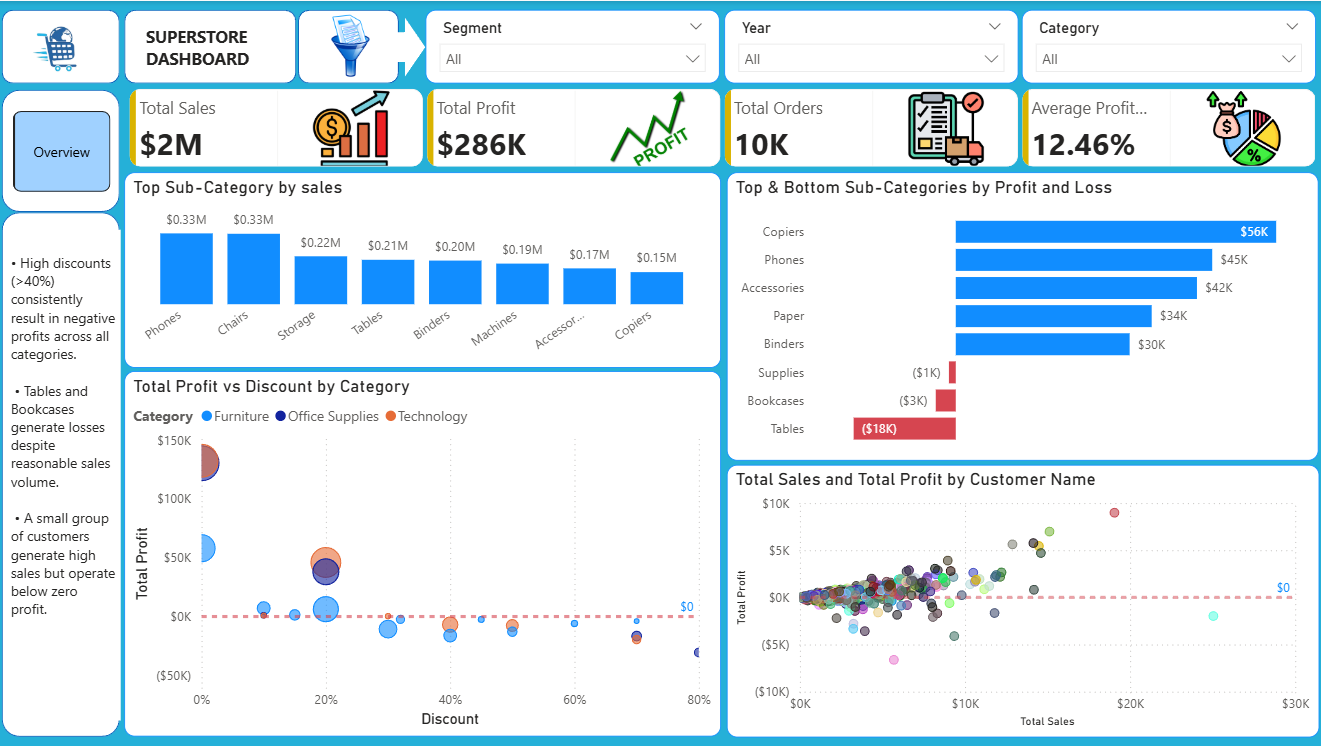

This screenshot's page, from the dashboard's own definition file:
{"tool":"powerbi","page":{"name":"Profitability Analysis","canvas":[1280,720],"ordinal":1},"visuals":[{"type":"shape","box":[4.1,8.2,113.9,71.4],"z":0},{"type":"image","box":[0,8.2,118,75.5],"z":1000},{"type":"cardVisual","title":"sdgdfgth","fields":{"Data":["Sample - Superstore.Total_Sales","Sample - Superstore.Total_Profit","Sample - Superstore.Total_Orders","Sample - Superstore.Average Profit Margin %"]},"box":[118,75.5,1162.3,93.3],"z":2000},{"type":"slicer","fields":{"Values":["Sample - Superstore.Category"]},"box":[988,8.2,284,71.4],"z":3000},{"type":"shape","box":[4.1,85.1,113.9,118],"z":4000},{"type":"shape","box":[122.1,8.2,166,71.4],"z":5000},{"type":"slicer","fields":{"Values":["Sample - Superstore.Order Date.Variation.Date Hierarchy.Year"]},"box":[701.2,8.2,284,71.4],"z":6000},{"type":"slicer","fields":{"Values":["Sample - Superstore.Segment"]},"box":[413,8.2,284,71.4],"z":7000},{"type":"shape","box":[289.5,8.2,97.4,71.4],"z":8000},{"type":"textbox","box":[137.2,17.8,141.3,57.6],"z":9000},{"type":"image","box":[293.7,8.2,93.3,67.2],"z":10000},{"type":"shape","box":[373.2,15.1,39.8,57.6],"z":11000},{"type":"shape","box":[4.1,204.5,113.9,506.3],"z":12000},{"type":"textbox","box":[6.9,220.9,111.1,473.4],"z":13000},{"type":"clusteredColumnChart","title":"Top Sub-Category by sales","fields":{"Category":["Sample - Superstore.Sub-Category"],"Y":["Sample - Superstore.Total_Sales"]},"box":[121.4,165.7,575.7,188.6],"z":14000},{"type":"clusteredBarChart","title":"Top & Bottom Sub-Categories by Profit and Loss","fields":{"Category":["Sample - Superstore.Sub-Category"],"Y":["Sample - Superstore.Total_Profit"]},"box":[702.9,165.7,571.4,278.6],"z":15000},{"type":"scatterChart","fields":{"X":["Sample - Superstore.Total Sales"],"Y":["Sample - Superstore.Total Profit"],"Series":["Sample - Superstore.Customer Name"]},"box":[703.4,447.6,571.9,263],"z":16000},{"type":"scatterChart","title":"Total Profit vs Discount by Category","fields":{"X":["Sample - Superstore.Discount"],"Y":["Sample - Superstore.Total Profit"],"Size":["Sample - Superstore.Total Sales"],"Series":["Sample - Superstore.Category"]},"box":[121.4,357.1,575.7,352.9],"z":17000},{"type":"pageNavigator","box":[14.3,105.7,94.3,78.6],"z":18000}]}

Visuals, with their boxes in screenshot pixels (x1, y1, x2, y2), scaled from the page's 1280x720 canvas onto the 1321x746 screenshot:
shape: crop(4, 8, 122, 82)
image: crop(0, 8, 122, 87)
"sdgdfgth" cardVisual: crop(122, 78, 1320, 175)
slicer - Sample - Superstore.Category: crop(1020, 8, 1313, 82)
shape: crop(4, 88, 122, 210)
shape: crop(126, 8, 297, 82)
slicer - Sample - Superstore.Order Date.Variation.Date Hierarchy.Year: crop(724, 8, 1017, 82)
slicer - Sample - Superstore.Segment: crop(426, 8, 719, 82)
shape: crop(299, 8, 399, 82)
textbox: crop(142, 18, 287, 78)
image: crop(303, 8, 399, 78)
shape: crop(385, 16, 426, 75)
shape: crop(4, 212, 122, 736)
textbox: crop(7, 229, 122, 719)
"Top Sub-Category by sales" clusteredColumnChart: crop(125, 172, 719, 367)
"Top & Bottom Sub-Categories by Profit and Loss" clusteredBarChart: crop(725, 172, 1315, 460)
scatterChart - Sample - Superstore.Total Sales x Sample - Superstore.Total Profit: crop(726, 464, 1316, 736)
"Total Profit vs Discount by Category" scatterChart: crop(125, 370, 719, 736)
pageNavigator: crop(15, 110, 112, 191)
